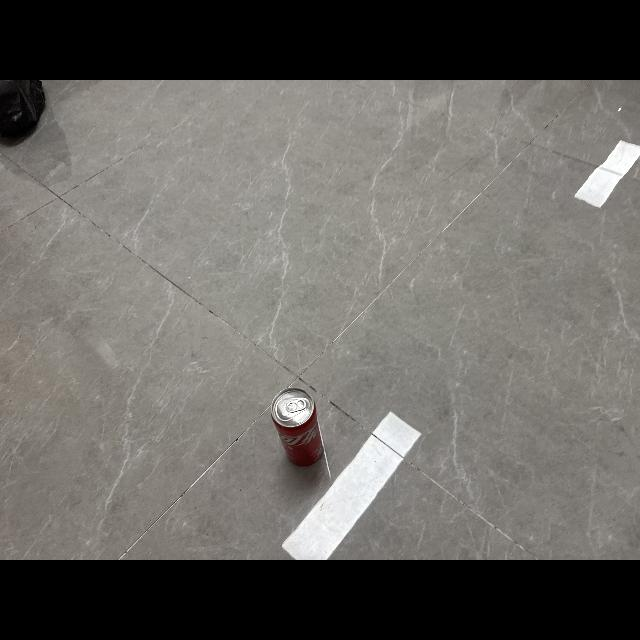Cola: (268, 384, 328, 472)
